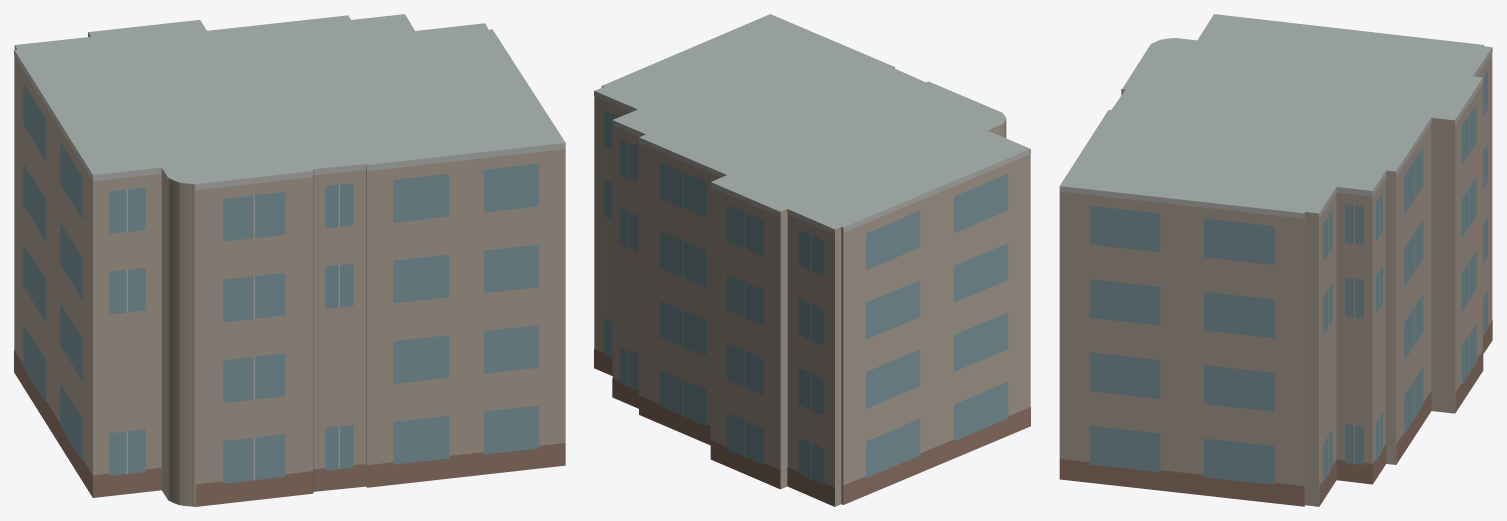
Rendered from survey-upis-32657969.glb.
The picture shows the model from 3 angles, left to right: view 1: azimuth 30°, elevation 25°; view 2: azimuth 150°, elevation 25°; view 3: azimuth 270°, elevation 25°; orthographic projection. The views are drawn at different scales.
Parts seen in each view (by area): view 1: survey-upis-32657969.tmp; view 2: survey-upis-32657969.tmp; view 3: survey-upis-32657969.tmp.
Part boxes in pixels (left/top/right/bottom): survey-upis-32657969.tmp: left=14, top=14, right=565, bottom=506; survey-upis-32657969.tmp: left=594, top=14, right=1030, bottom=506; survey-upis-32657969.tmp: left=1059, top=14, right=1492, bottom=506.
Bounding box in the file's own units: 19.03 × 13.03 × 17.44.
